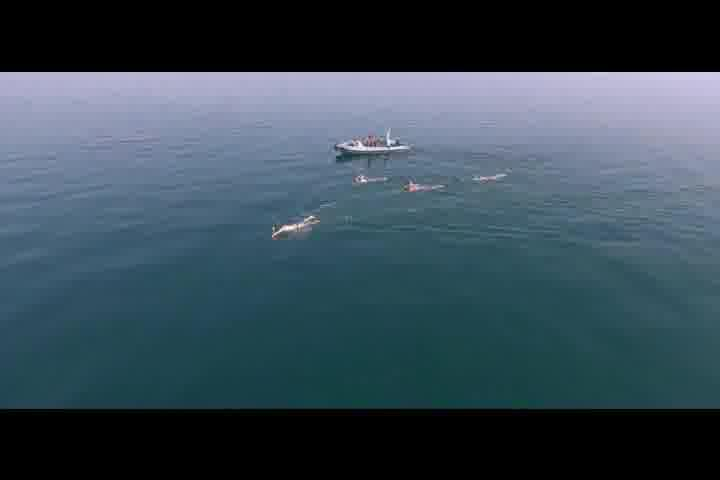swimmer: (270, 210, 322, 241), (402, 176, 447, 196)
